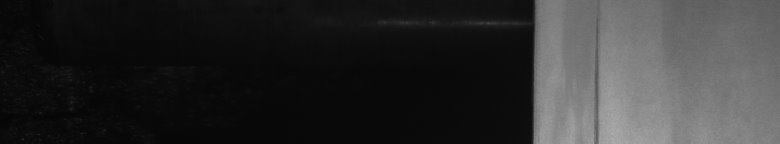hd: (591, 17, 604, 136)
